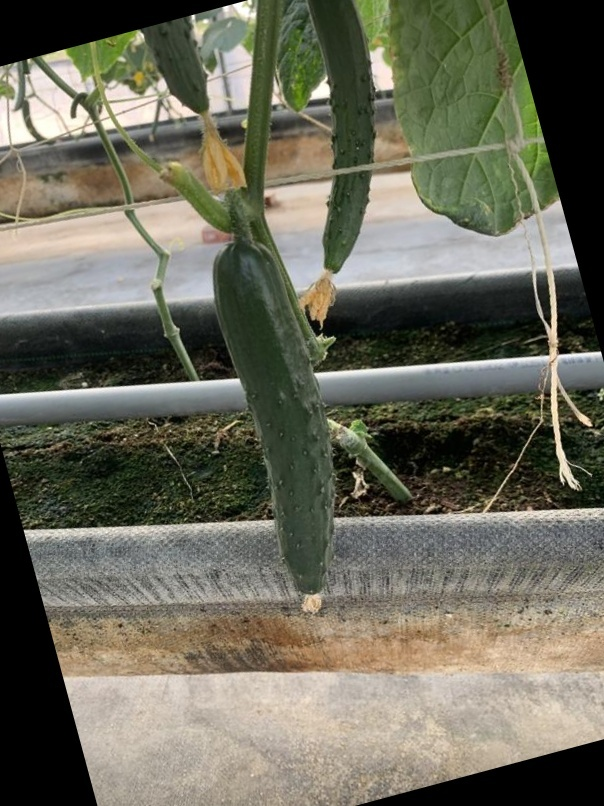mature: (211, 233, 333, 596), (299, 1, 378, 279)
